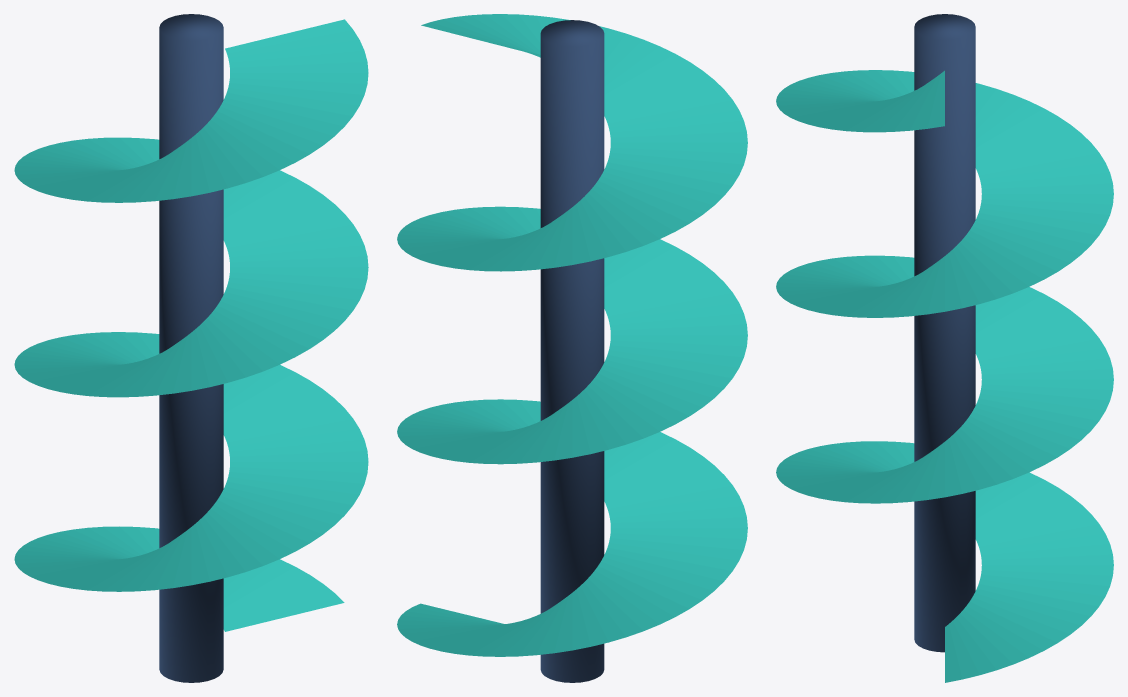
The model's file is archimedes-screw-quality.glb.
3 views of the same model, side by side, from view 1: azimuth 30°, elevation 25°; view 2: azimuth 150°, elevation 25°; view 3: azimuth 270°, elevation 25° (orthographic). The views are drawn at different scales.
Parts seen in each view (by area): view 1: Shaft; view 2: Shaft; view 3: Shaft.
Boxes of the visible parts, x1,y1,x2,y2 form: Shaft: (14,14,368,682); Shaft: (397,14,747,682); Shaft: (776,14,1113,682).
Size of the model in its own units: 1.1 by 2.2 by 1.1.
